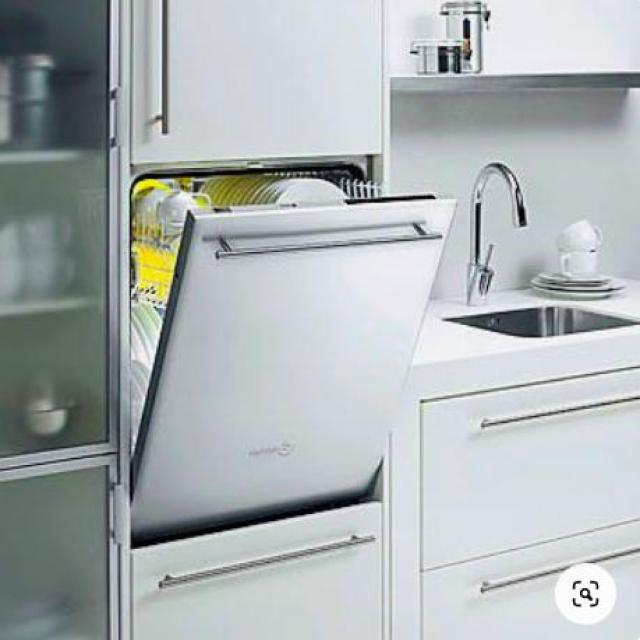dishwasher: (112, 147, 464, 556)
